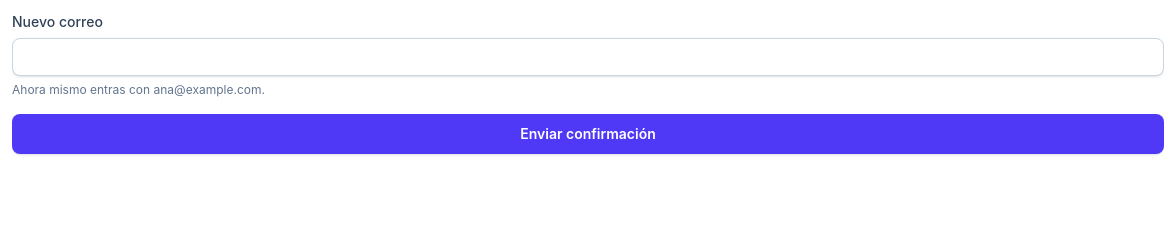
Test: ChangeEmailSection › solicita el cambio y avisa de que hay que confirmarlo por correo
Type "nueva@example.com" into the field labelled "Nuevo correo".
click(588, 57); type("nueva@example.com")  # box [12,38,1164,76]
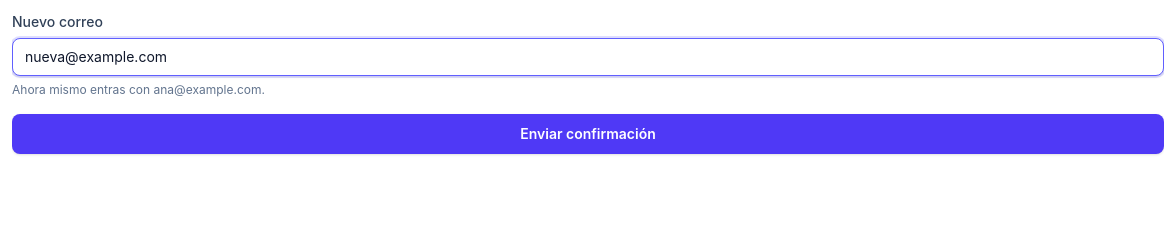
Click the button "Enviar confirmación".
click(588, 134)  # box [12,114,1164,154]
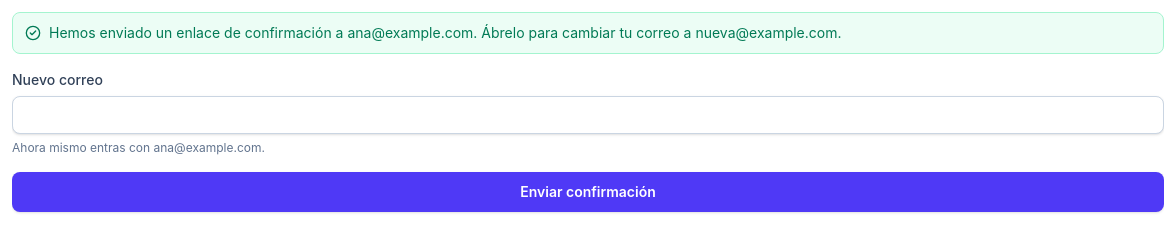
Expected: the text "Hemos enviado un enlace de confirmación a ana@example.com" is shown, [49,23,842,43]
